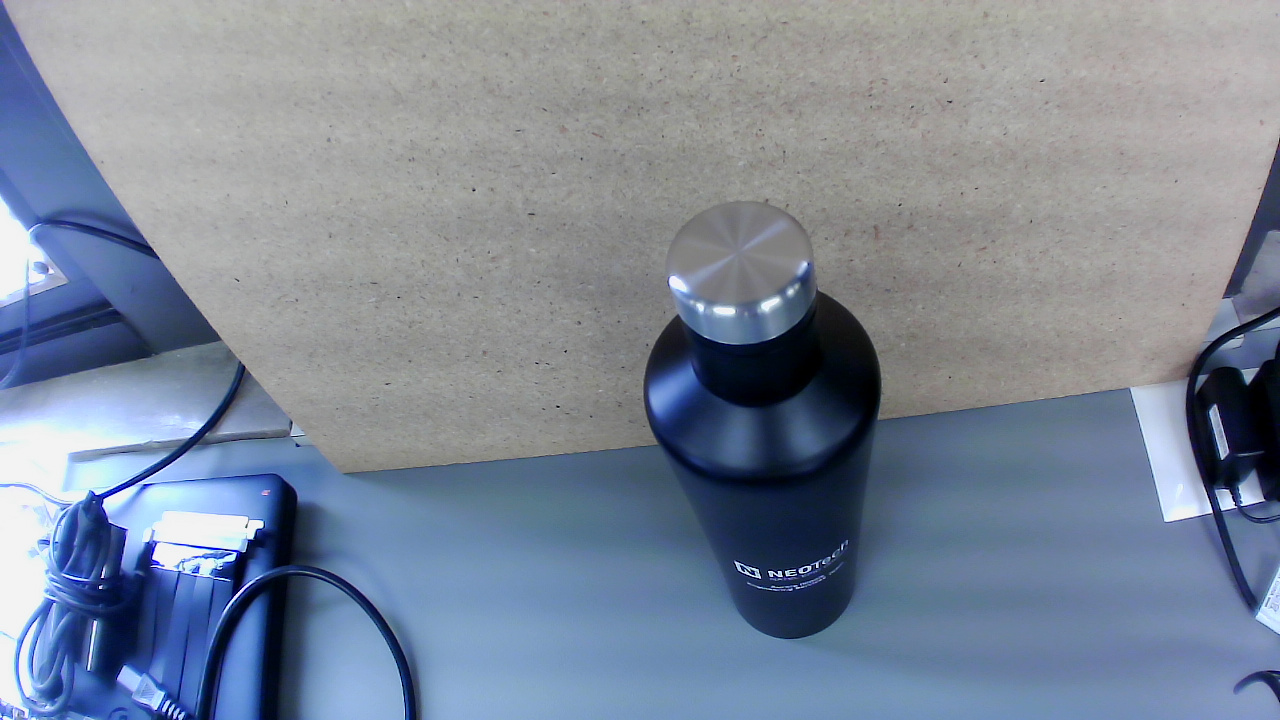neobottle: (626, 192, 896, 647)
